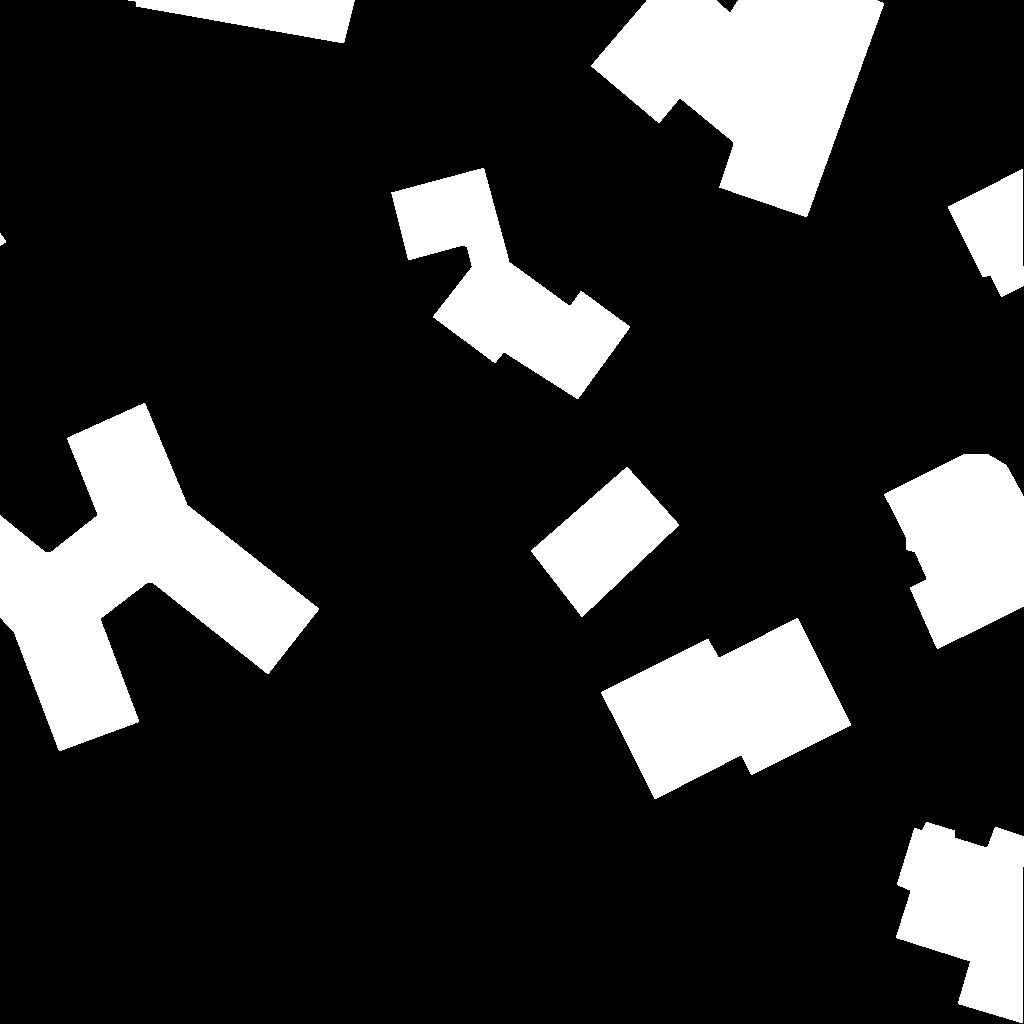building: (0, 403, 320, 752), (591, 0, 885, 218), (391, 168, 631, 400), (601, 618, 852, 800), (884, 453, 1024, 650), (896, 822, 1024, 1024), (531, 467, 680, 618), (125, 0, 356, 44), (948, 169, 1024, 298), (0, 233, 7, 247)
